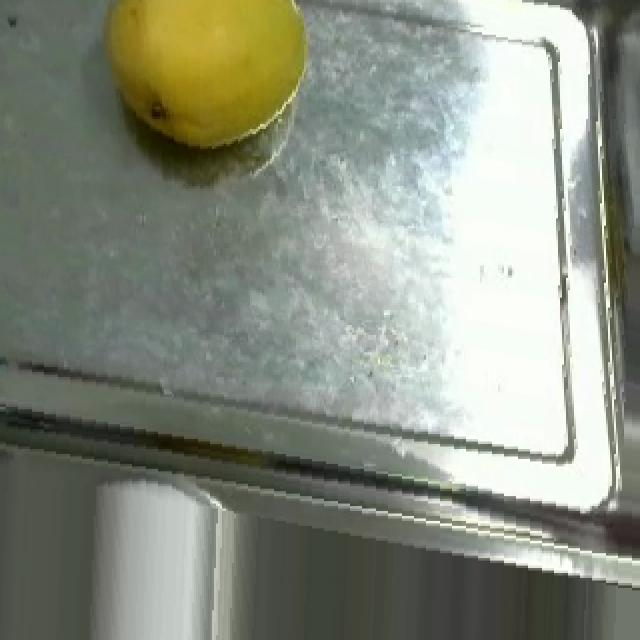fruit: (74, 0, 332, 176)
